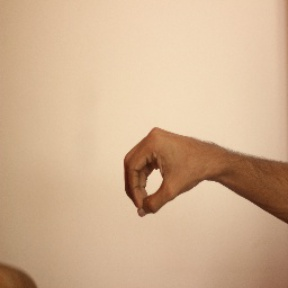O: (120, 122, 210, 223)
